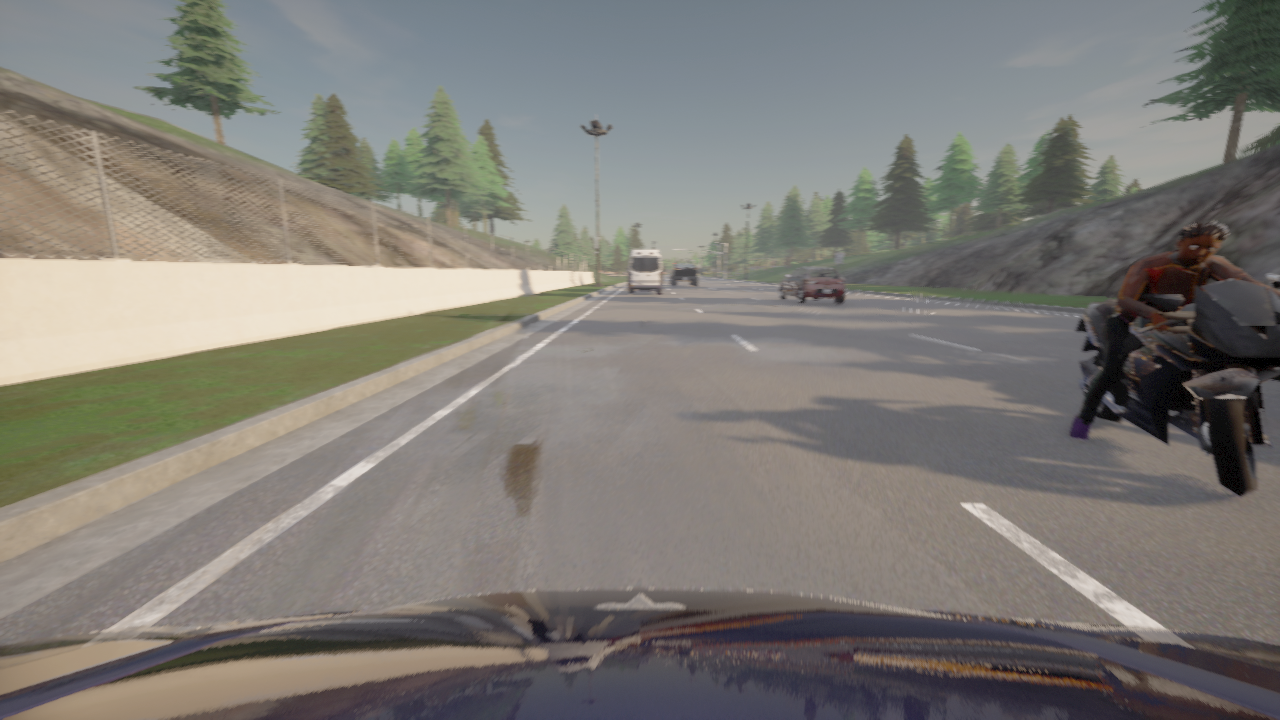cyclist: (0, 588, 1279, 719), (1075, 279, 1279, 496), (1180, 274, 1279, 380), (778, 267, 845, 303), (627, 249, 662, 293), (670, 263, 698, 286)
